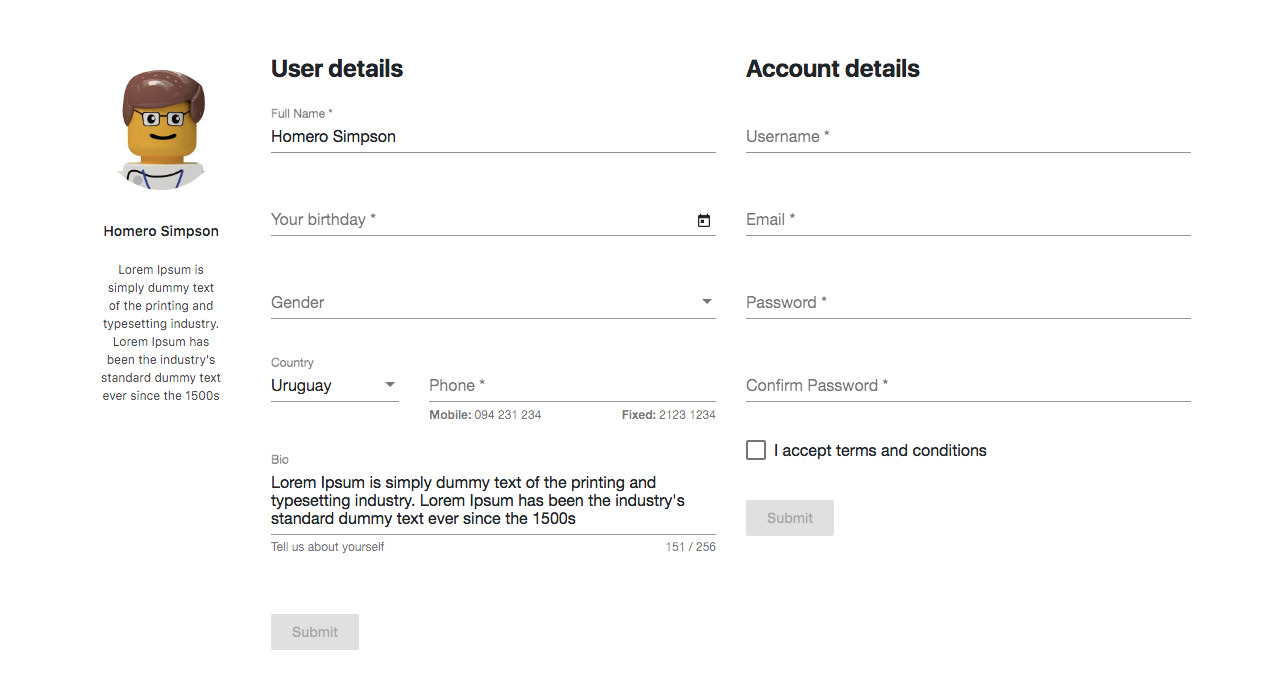_form_: (247, 68, 729, 470), (734, 26, 1216, 428), (248, 261, 730, 663)
button: (267, 610, 361, 653), (745, 498, 842, 539)
checkbox: (743, 438, 770, 466)
checkbox_with_label: (740, 434, 989, 469)
field_line: (741, 108, 1193, 156), (736, 201, 1195, 241), (741, 285, 1196, 323), (267, 202, 715, 239), (265, 288, 722, 322), (269, 121, 716, 155), (742, 373, 1196, 406), (422, 372, 718, 406), (268, 373, 401, 404)
field_line_with_label: (266, 106, 719, 156), (264, 356, 401, 405)
